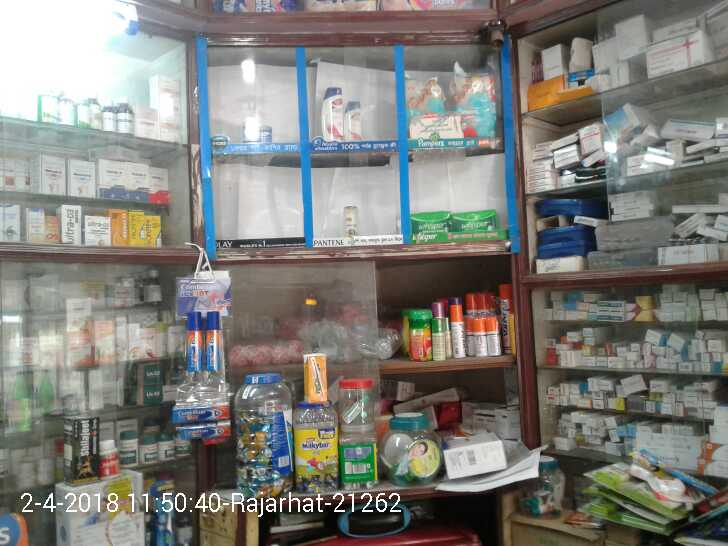vicks: (258, 124, 273, 141)
